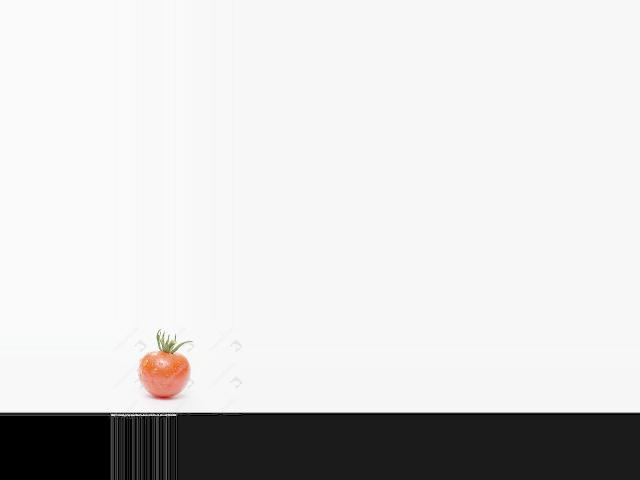tomato: (139, 352, 191, 397)
